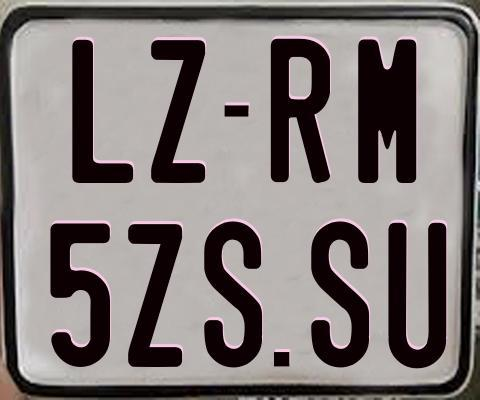5: (48, 223, 110, 371)
L: (70, 40, 134, 184)
M: (358, 39, 418, 189)
R: (270, 39, 329, 184)
S: (201, 218, 264, 371), (309, 218, 369, 369)
U: (388, 222, 448, 373)
Z: (128, 223, 188, 371), (148, 37, 205, 181)
